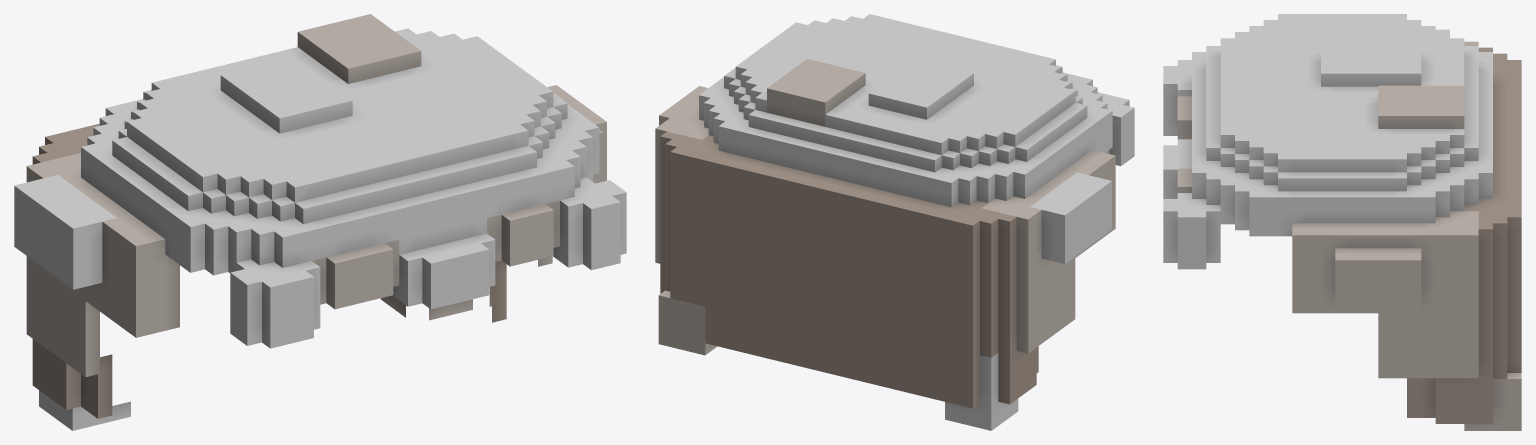
File: hair_m_wild_loose.glb
The picture shows the model from 3 angles, left to right: view 1: azimuth 30°, elevation 25°; view 2: azimuth 150°, elevation 25°; view 3: azimuth 270°, elevation 25°; orthographic projection. The views are drawn at different scales.
Parts seen in each view (by area): view 1: VoxelVisual; view 2: VoxelVisual; view 3: VoxelVisual.
Boxes of the visible parts, x1=… form: VoxelVisual: x1=14, y1=14, x2=626, y2=430; VoxelVisual: x1=655, y1=14, x2=1134, y2=430; VoxelVisual: x1=1163, y1=14, x2=1521, y2=430.
Size of what is drawn, in the model's own units: 2.25 by 1.38 by 1.56.
